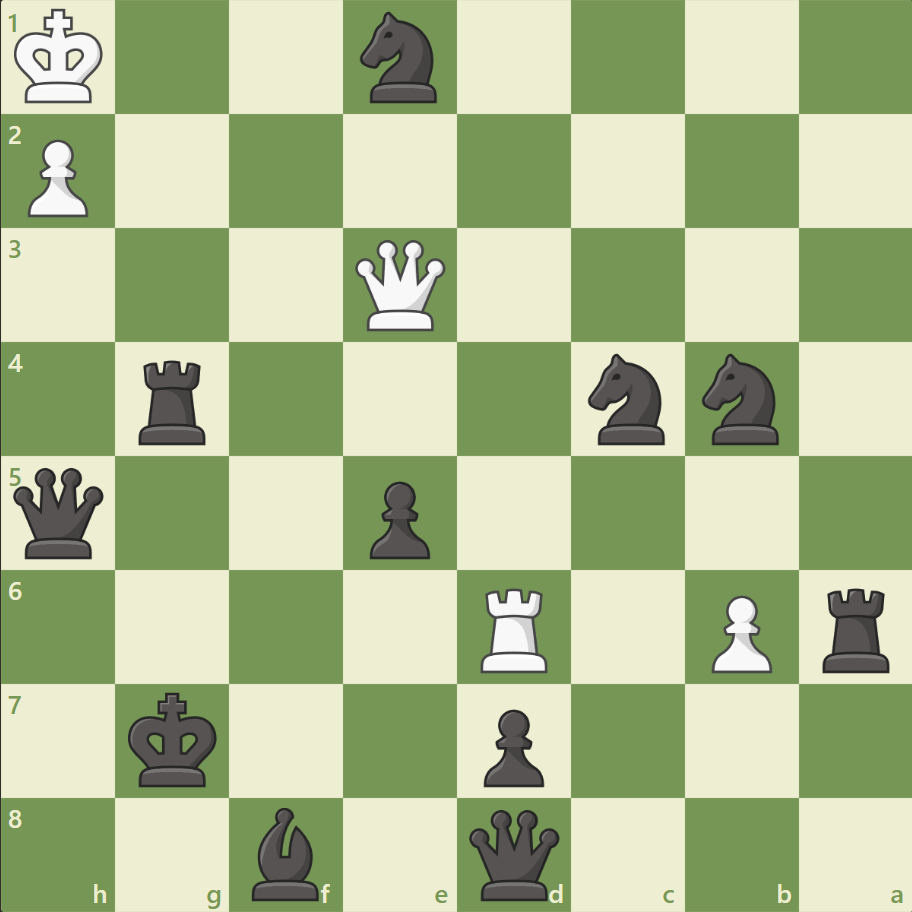K: (11, 4, 111, 112)
P: (701, 586, 776, 677), (20, 132, 95, 223)
Q: (351, 236, 450, 335)
R: (473, 579, 556, 676)
b: (244, 801, 328, 904)
k: (124, 685, 224, 793)
n: (351, 7, 449, 110), (692, 348, 789, 450), (579, 348, 676, 450)
p: (474, 700, 549, 791), (361, 473, 435, 564)
q: (464, 804, 563, 903), (10, 463, 109, 562)
r: (814, 579, 897, 676), (133, 352, 215, 449)
